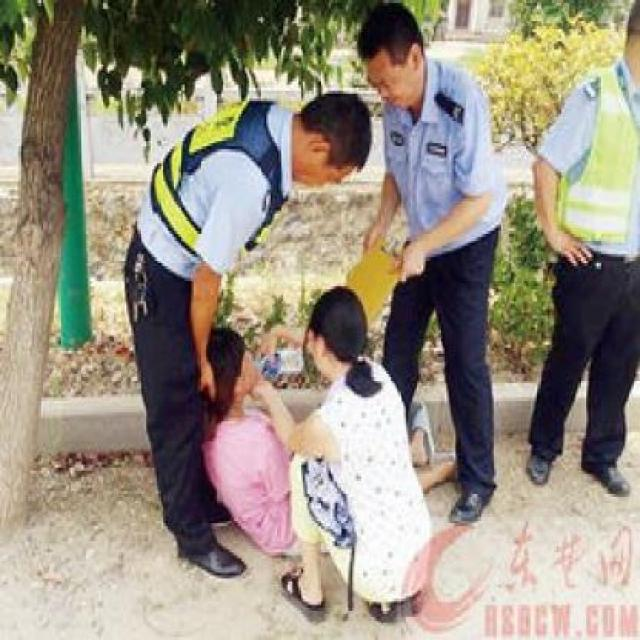fall: (183, 316, 331, 576)
